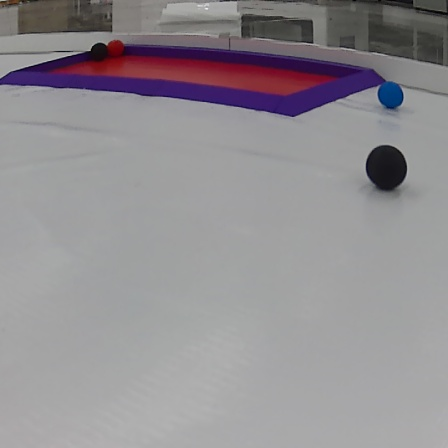black: (367, 149, 409, 187), (91, 45, 108, 61)
blue: (379, 83, 407, 110)
red: (107, 38, 124, 56)
red_aim: (0, 40, 383, 124)
